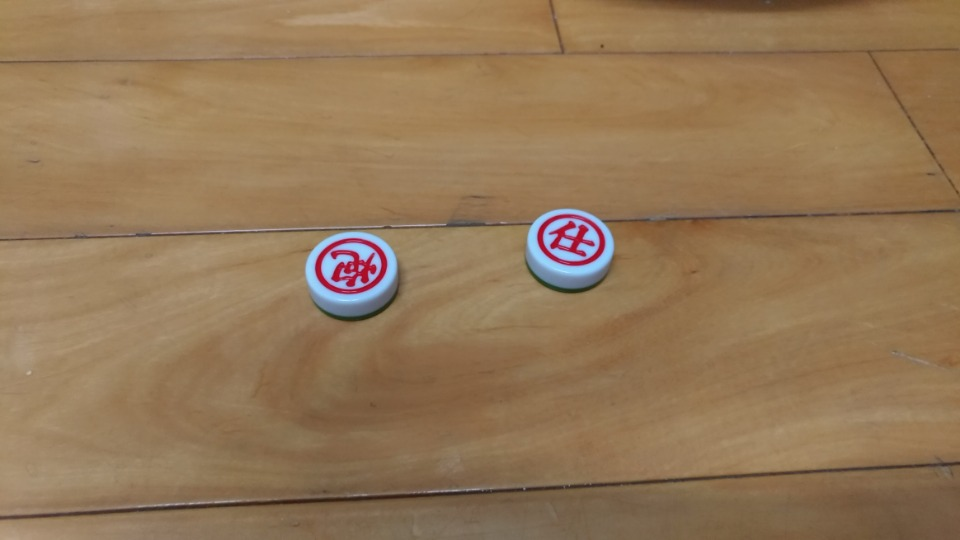r-advisor: (518, 199, 625, 297)
r-cannon: (297, 222, 409, 328)
